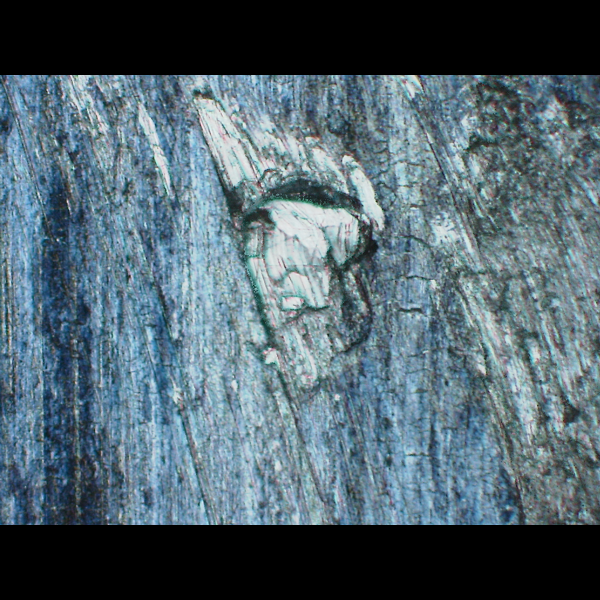d: (185, 81, 402, 410)
